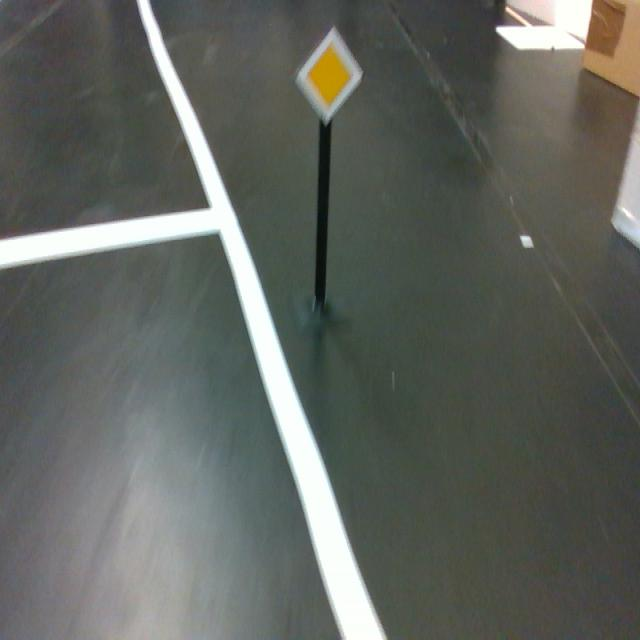priority-sign: (293, 25, 365, 129)
